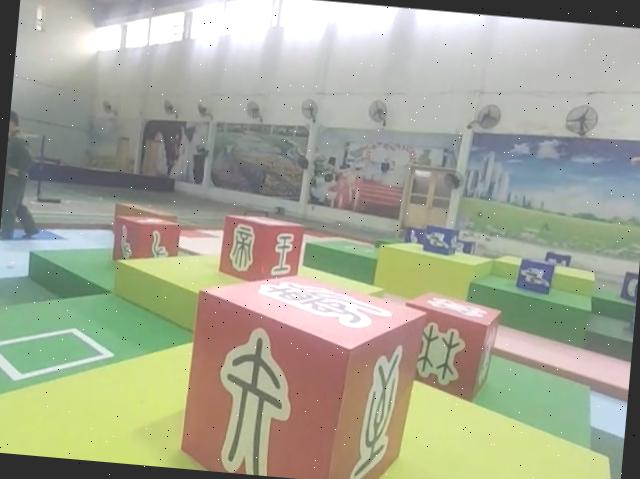R2 Fake: (177, 262, 428, 479), (217, 211, 304, 285)
R2 Real: (394, 285, 505, 405), (109, 208, 183, 268)
